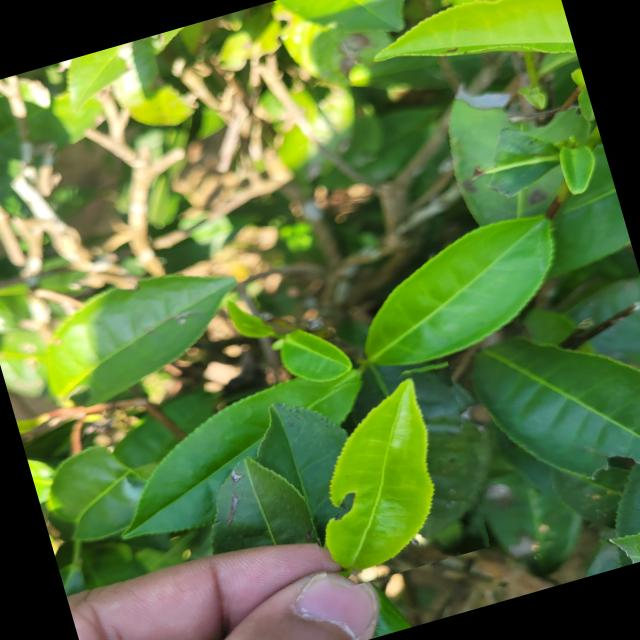Catagory A(1-2 days): (276, 351, 499, 591)
